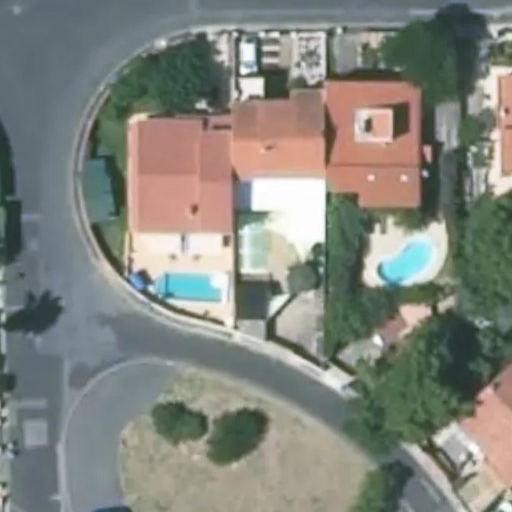pool: (239, 212, 272, 271)
